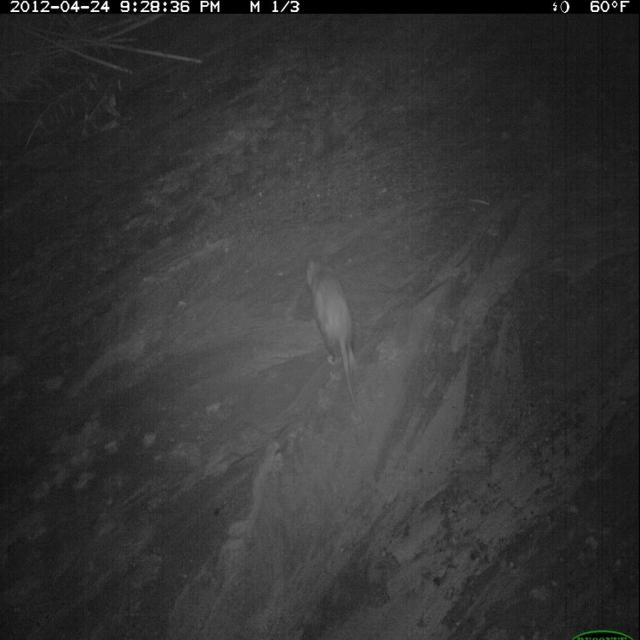opossum: (302, 253, 365, 421)
